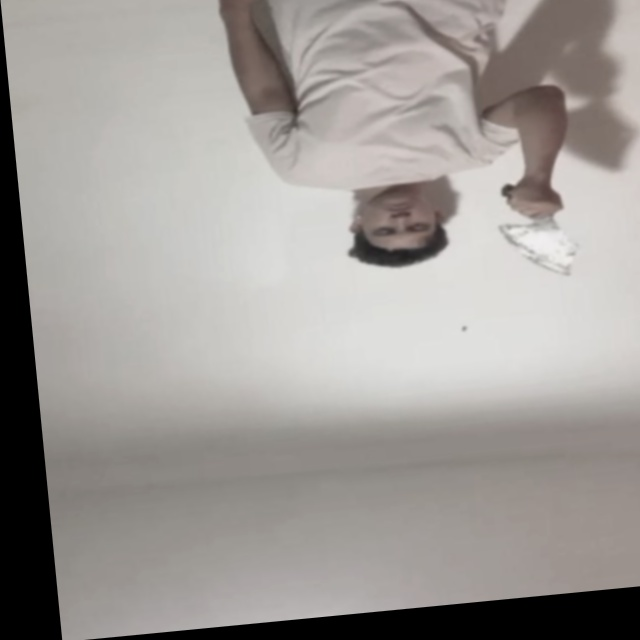Sharp-Object: (503, 217, 582, 283)
